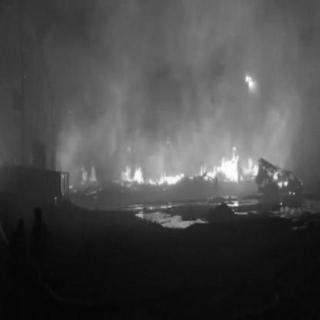Fire: (73, 154, 301, 202)
